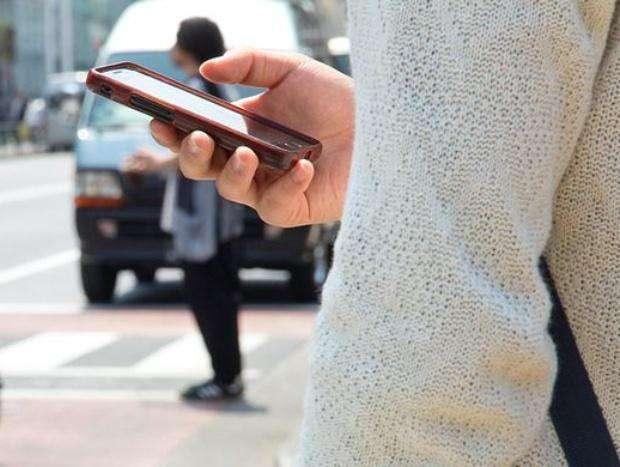reading: (78, 45, 357, 232)
